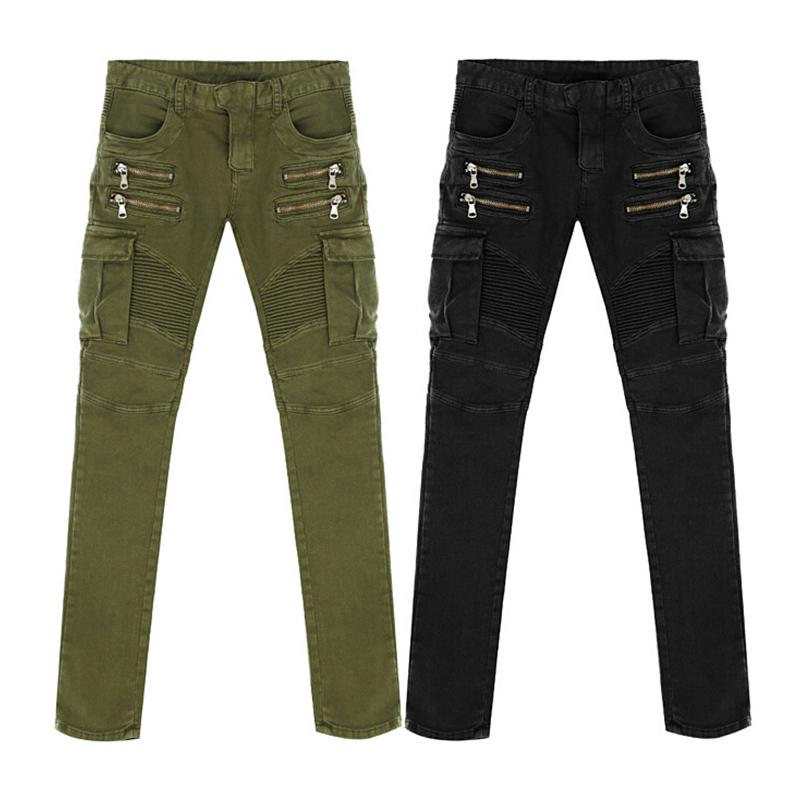jeans: (413, 50, 754, 740), (56, 63, 408, 726)
